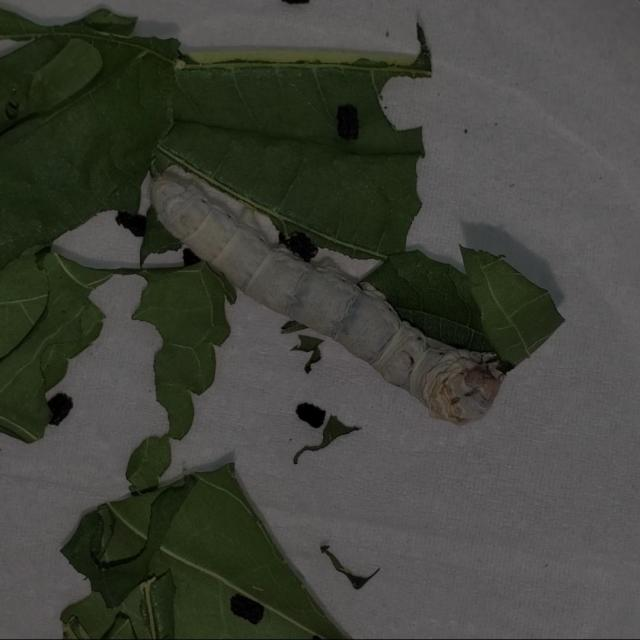Healthy: (119, 117, 518, 444)
